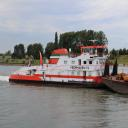tugboat: (9, 41, 119, 91)
